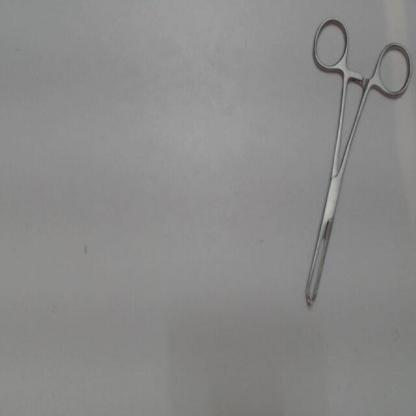Allis Tissue Forceps: (297, 10, 415, 318)
